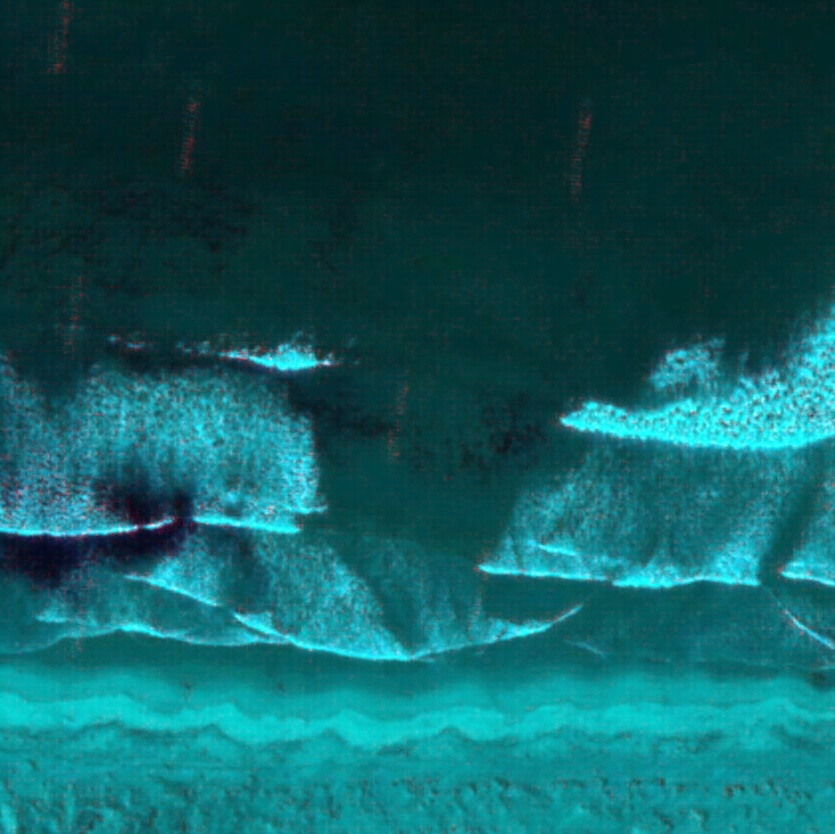rip_current: (253, 303, 571, 648)
